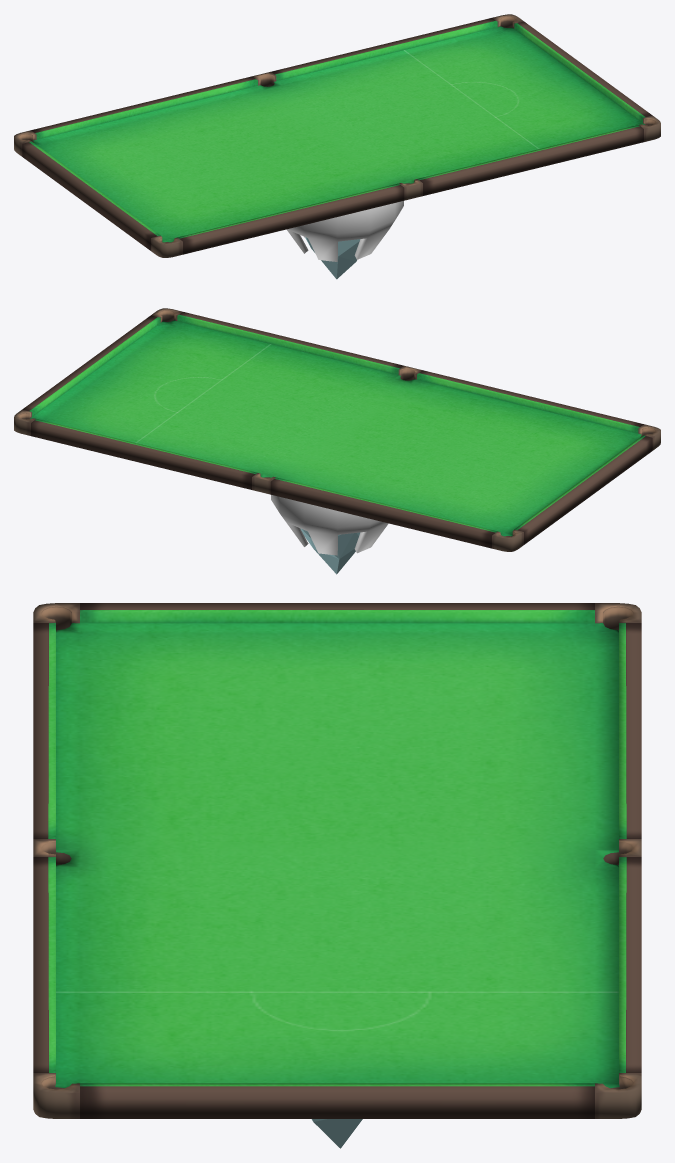
File: table_01.fbx
3 views of the same model, one above another, from view 1: azimuth 30°, elevation 25°; view 2: azimuth 150°, elevation 25°; view 3: azimuth 270°, elevation 25° (orthographic). The views are drawn at different scales.
Parts seen in each view (by area): view 1: table01, table_crystal01, crystal001; view 2: table01, table_crystal01, crystal001; view 3: table01, crystal001.
Part boxes in pixels (box(x1,y1,x2,y2)): table01: box(14, 14, 660, 257); table_crystal01: box(286, 201, 403, 261); crystal001: box(305, 237, 360, 279); table01: box(14, 308, 660, 551); table_crystal01: box(271, 495, 388, 555); crystal001: box(300, 528, 360, 574); table01: box(33, 603, 641, 1118); crystal001: box(311, 1119, 362, 1148).
Bounding box in the file's own units: 872 × 250 × 458.
